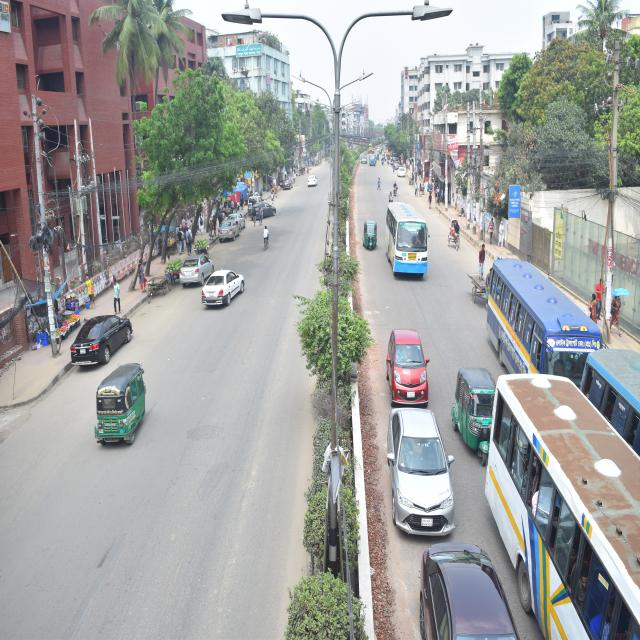bus: (482, 366, 640, 640), (476, 254, 612, 390), (571, 335, 640, 466), (385, 200, 437, 282)
car: (401, 532, 531, 640), (374, 405, 470, 544), (61, 304, 143, 382), (379, 314, 436, 410), (190, 268, 250, 311), (175, 246, 223, 289), (215, 217, 246, 242), (248, 200, 284, 218), (302, 171, 322, 195), (281, 170, 294, 195)
motorbike: (391, 172, 401, 202)
